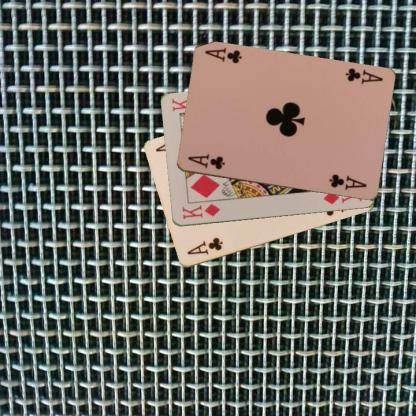Ac: (184, 234, 224, 256), (185, 151, 226, 171), (343, 66, 384, 86)
Kd: (179, 201, 221, 221)
